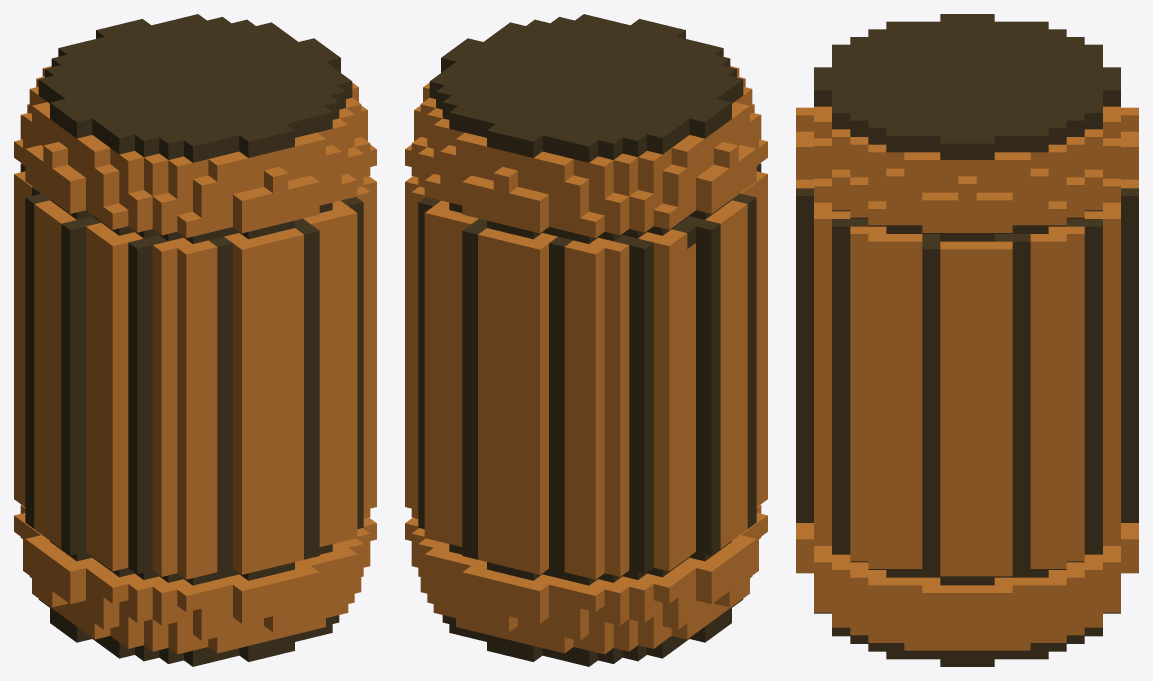
Rendered from WoodenBarrel.obj.
3 views of the same model, side by side, from view 1: azimuth 30°, elevation 25°; view 2: azimuth 150°, elevation 25°; view 3: azimuth 270°, elevation 25° (orthographic).
Parts seen in each view (by area): view 1: WoodenBarrel; view 2: WoodenBarrel; view 3: WoodenBarrel.
Boxes of the visible parts, left/top/right/bottom form: WoodenBarrel: left=14, top=14, right=376, bottom=666; WoodenBarrel: left=405, top=14, right=767, bottom=666; WoodenBarrel: left=796, top=14, right=1138, bottom=666.
Bounding box in the file's own units: 19 × 32 × 19.
Materials: 1 (1 with a texture image).
